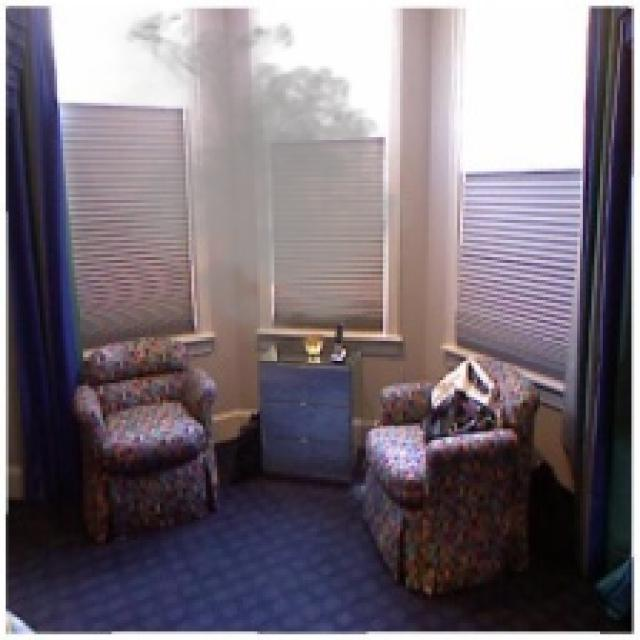smoke: (66, 0, 426, 357)
